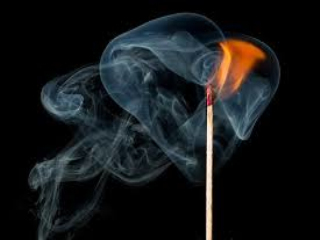fire: (209, 41, 261, 102)
smoke: (37, 44, 216, 197)
